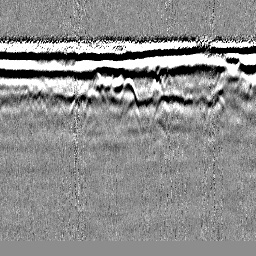cavity: (118, 76, 139, 108)
